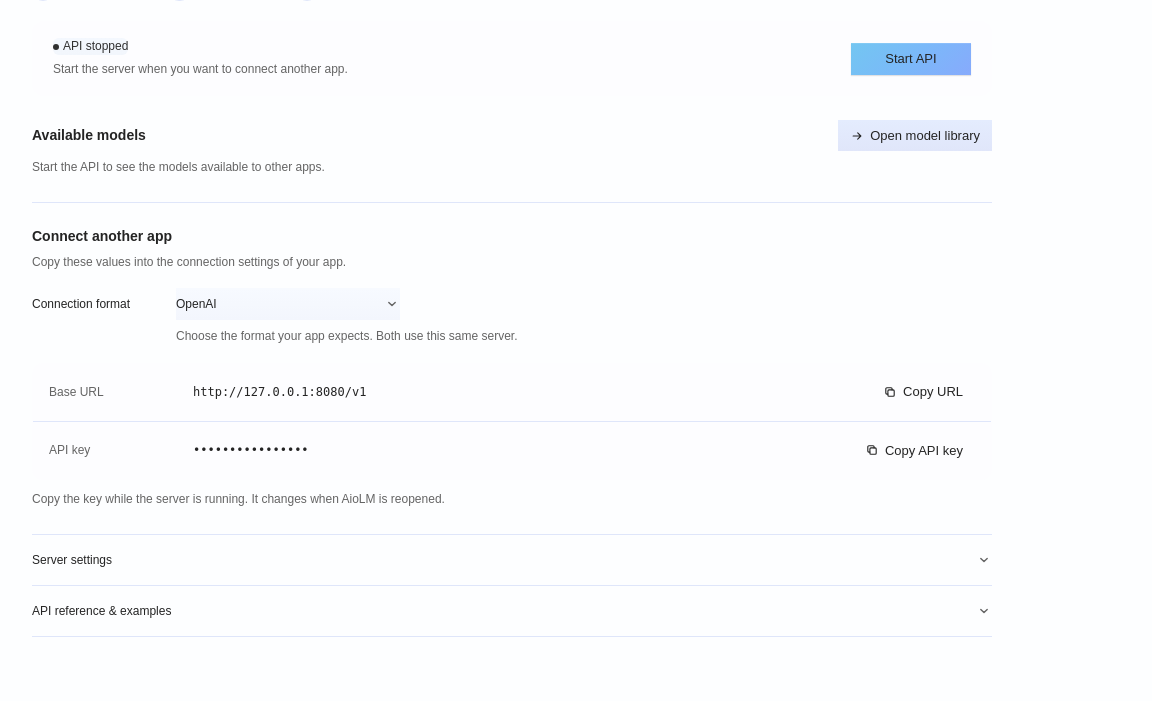
it: closed details › keeps port settings and the API reference hidden until they are expanded
(page scrolled)
Check: the button named "Start API" in the row of "API stopped" is enabled, box [851,43,971,75]
Check: the field labelled "API port" is not shown
Click the heading "Server settings" at (72,560), box [32,553,112,567]
(page scrolled)
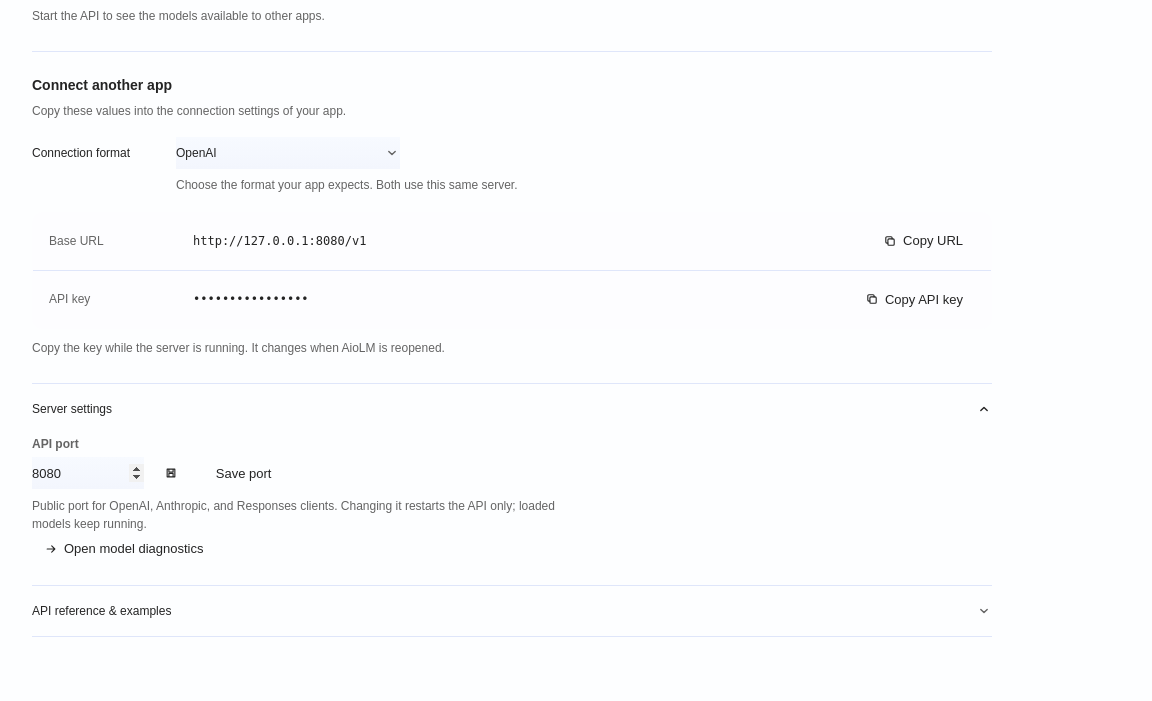
Check: the number field labelled "API port" is shown, box [32,458,144,490]
Check: the button "Open model diagnostics" is shown, box [32,534,216,565]
Click the heading "API reference & examples" at (102,611), box [32,604,171,618]
(page scrolled)
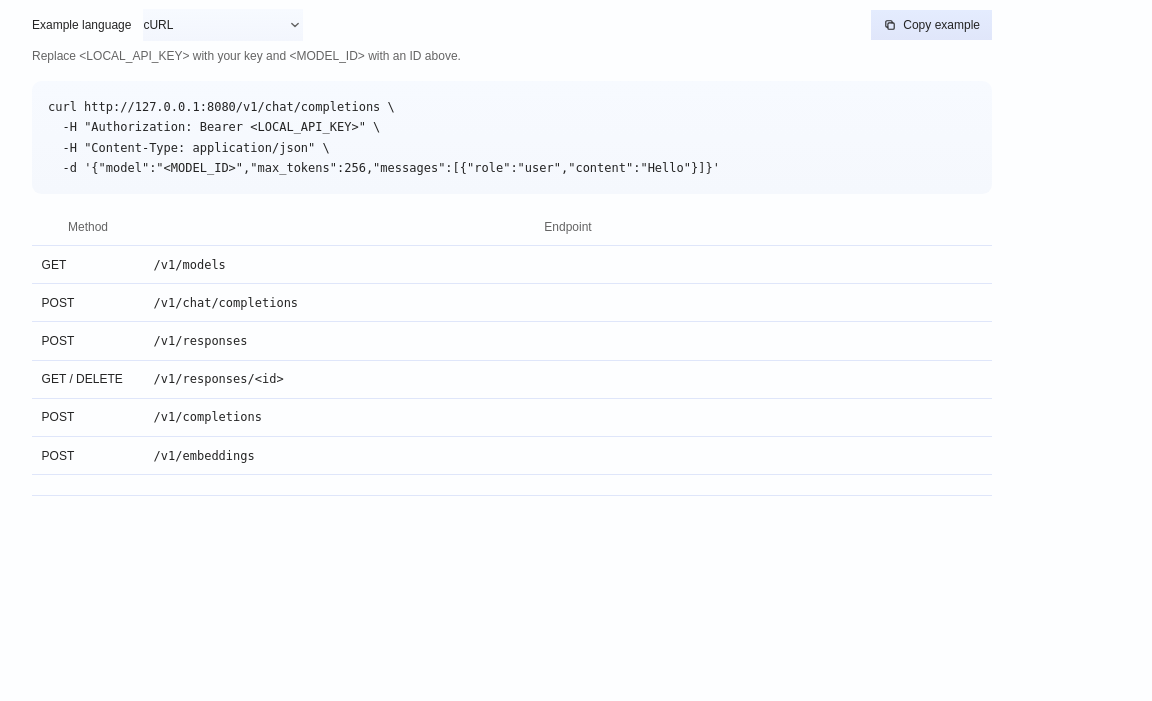
Check: the element with class "api-code" is shown, box [32,81,992,194]
Check: the table is shown, box [32,208,992,475]
